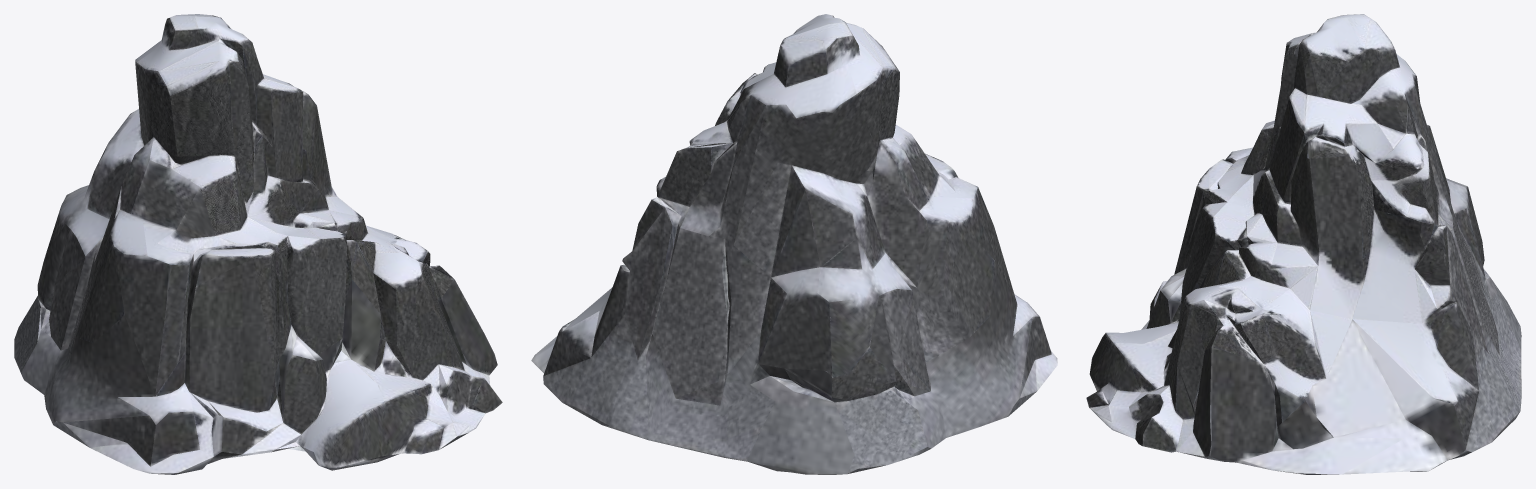
File: rock_outcrop.glb
The picture shows the model from 3 angles, left to right: view 1: azimuth 30°, elevation 25°; view 2: azimuth 150°, elevation 25°; view 3: azimuth 270°, elevation 25°; orthographic projection. The views are drawn at different scales.
Visible parts, largest first — view 1: Mesh_0; view 2: Mesh_0; view 3: Mesh_0.
Boxes of the visible parts, bbox=[...] form: Mesh_0: bbox=[14, 14, 502, 474]; Mesh_0: bbox=[531, 14, 1057, 474]; Mesh_0: bbox=[1086, 14, 1521, 474].
Bounding box in the file's own units: 1.89 × 1.57 × 1.81.
Materials: 1 (1 with a texture image).
